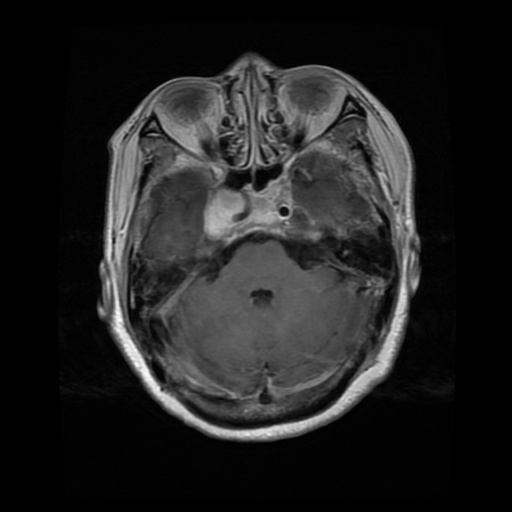meningioma: (202, 187, 246, 239)
